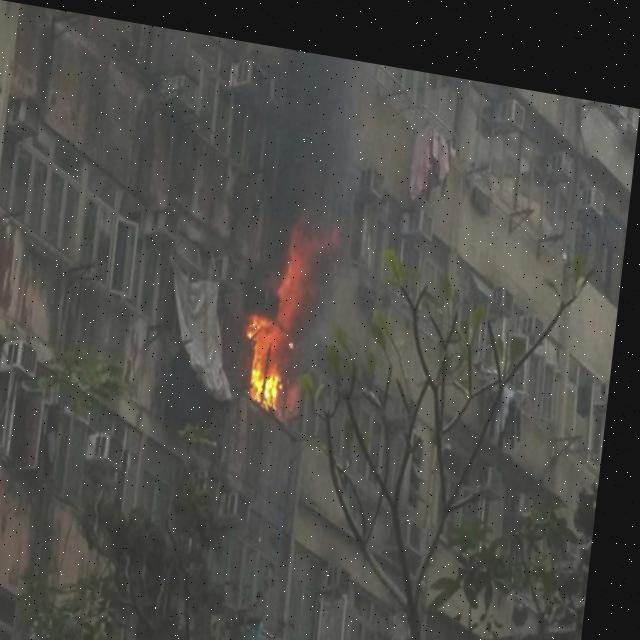Fire: (249, 302, 299, 401)
